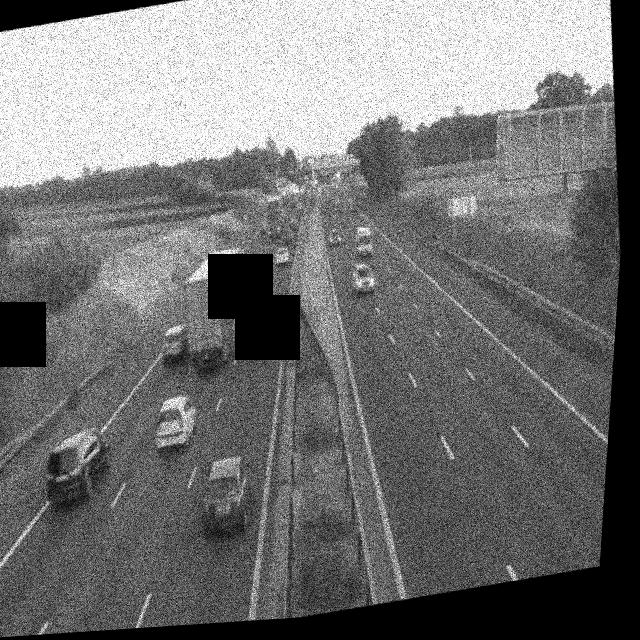car: (38, 426, 114, 508), (196, 452, 259, 538), (150, 392, 201, 451), (157, 321, 194, 364), (251, 314, 282, 353), (351, 261, 376, 296), (353, 229, 374, 259), (246, 256, 264, 279), (272, 244, 290, 266), (328, 226, 343, 245), (283, 219, 297, 236), (348, 200, 356, 212)
truck: (176, 245, 258, 373), (261, 193, 286, 239)
